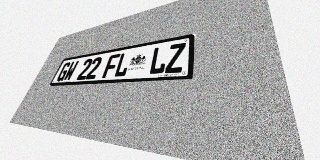2: (85, 56, 103, 79), (76, 58, 94, 80)
F: (102, 53, 120, 78)
G: (55, 62, 72, 82)
L: (148, 45, 169, 75), (113, 51, 132, 77)
W: (62, 60, 79, 81)
Z: (165, 42, 186, 73)
